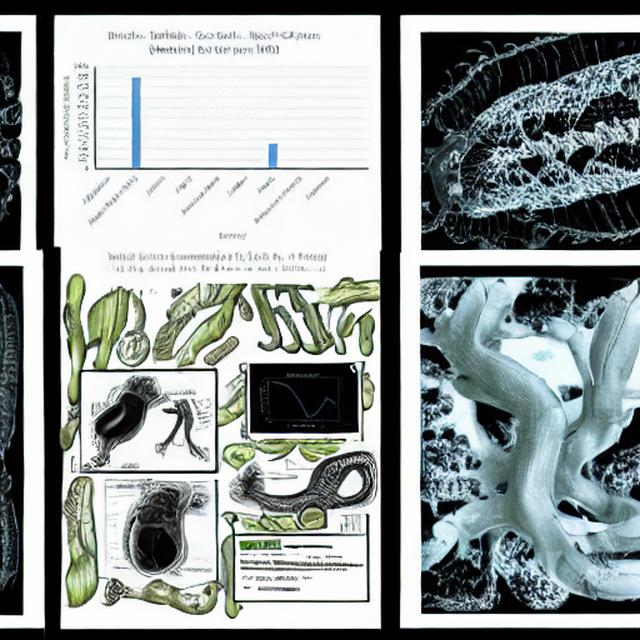Graph: (57, 26, 377, 245), (257, 365, 348, 433)
